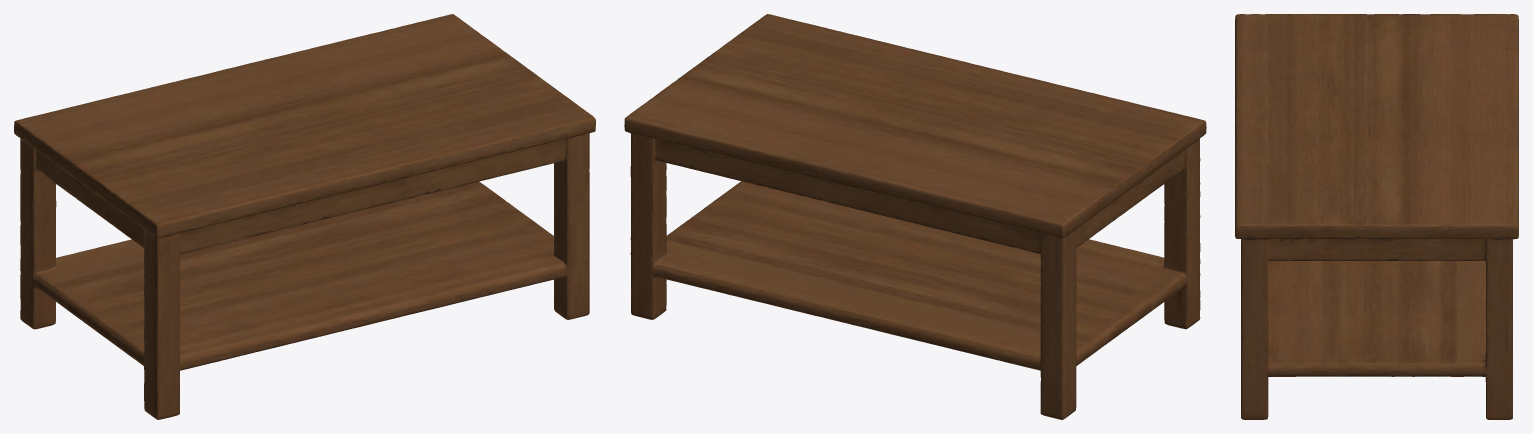
File: coffee-table.glb
The picture shows the model from 3 angles, left to right: view 1: azimuth 30°, elevation 25°; view 2: azimuth 150°, elevation 25°; view 3: azimuth 270°, elevation 25°; orthographic projection.
Parts seen in each view (by area): view 1: geometry_0; view 2: geometry_0; view 3: geometry_0.
Boxes of the visible parts, bbox=[...] form: geometry_0: bbox=[14, 14, 595, 419]; geometry_0: bbox=[624, 14, 1206, 419]; geometry_0: bbox=[1235, 14, 1518, 419].
Bounding box in the file's own units: 1.1 × 0.4798 × 0.6238.
Materials: 1 (1 with a texture image).
